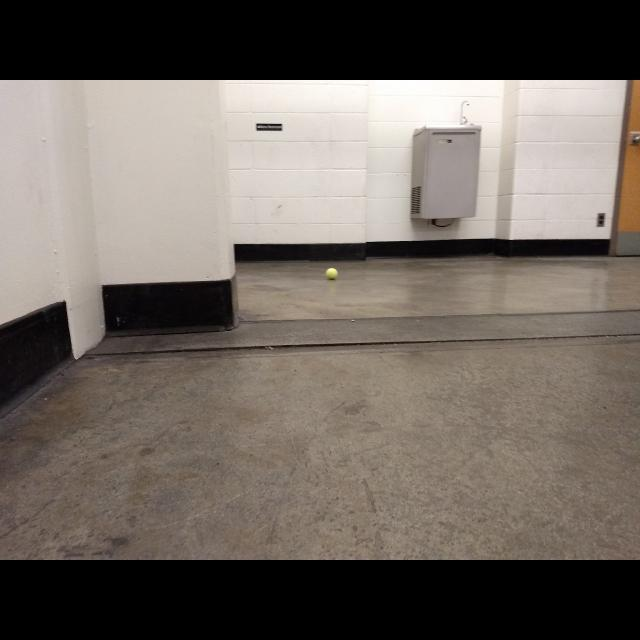tennis-ball: (324, 267, 338, 281)
